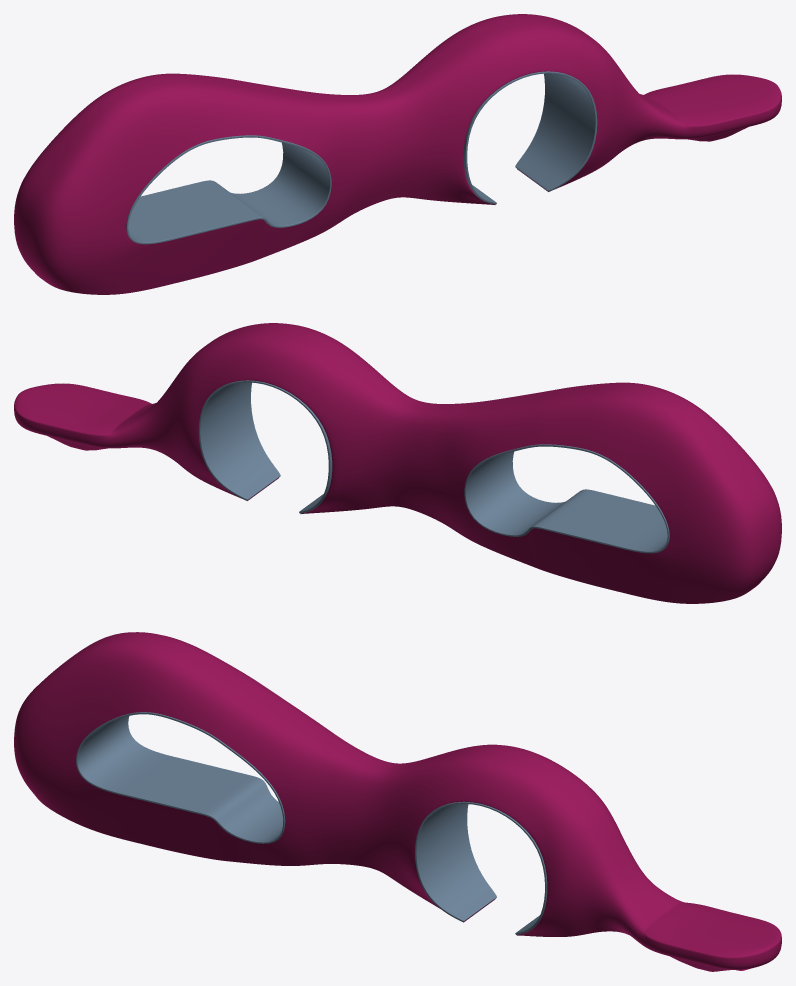
File: Reception by Karim Rashid.fbx
3 renders of one model, top to bottom at view 1: azimuth 30°, elevation 25°; view 2: azimuth 150°, elevation 25°; view 3: azimuth 330°, elevation 25°, orthographic.
Parts seen in each view (by area): view 1: Reception by Karim Rashid; view 2: Reception by Karim Rashid; view 3: Reception by Karim Rashid.
Part boxes in pixels (x1=…): Reception by Karim Rashid: x1=14, y1=14, x2=781, y2=294; Reception by Karim Rashid: x1=14, y1=323, x2=781, y2=603; Reception by Karim Rashid: x1=14, y1=632, x2=781, y2=971.
Bounding box in the file's own units: 1592 × 387 × 188.
